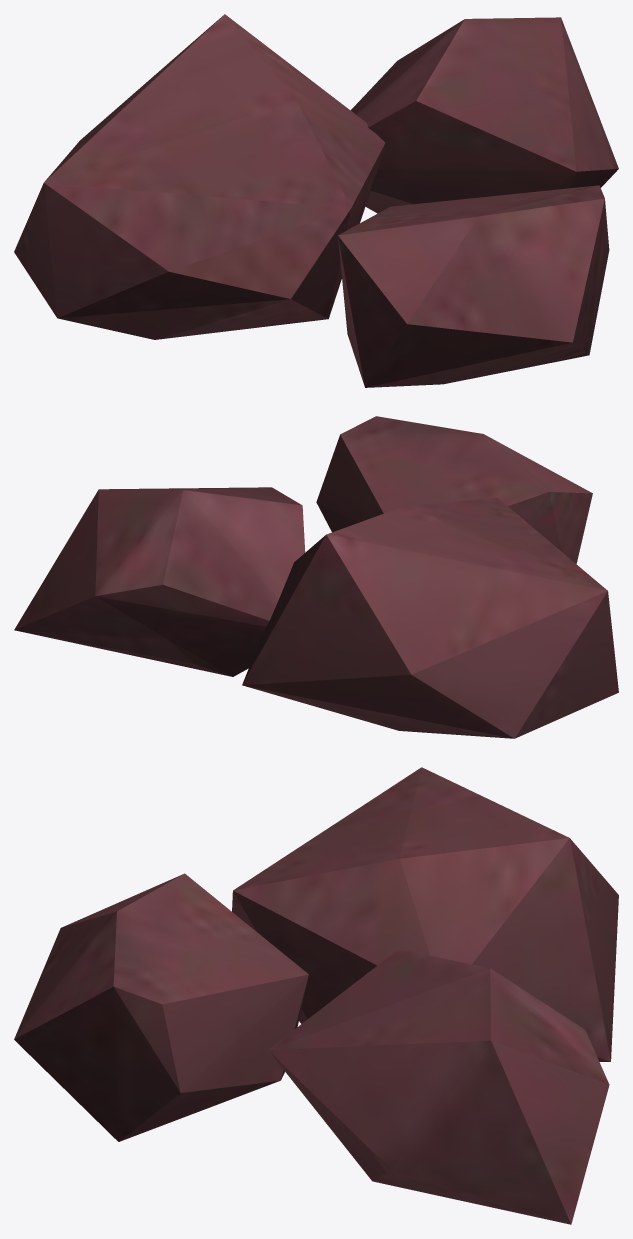
File: holmium-ore.glb
3 views of the same model, one above another, from view 1: azimuth 30°, elevation 25°; view 2: azimuth 150°, elevation 25°; view 3: azimuth 270°, elevation 25° (orthographic). The views are drawn at different scales.
Visible parts, largest first — view 1: holmium-ore; view 2: holmium-ore; view 3: holmium-ore.
Part boxes in pixels (x1,y1,x2,y2): holmium-ore: (14,14,618,387); holmium-ore: (14,416,618,738); holmium-ore: (14,767,618,1224).
Bounding box in the file's own units: 0.2648 × 0.091 × 0.2182.
Materials: 1 (1 with a texture image).
